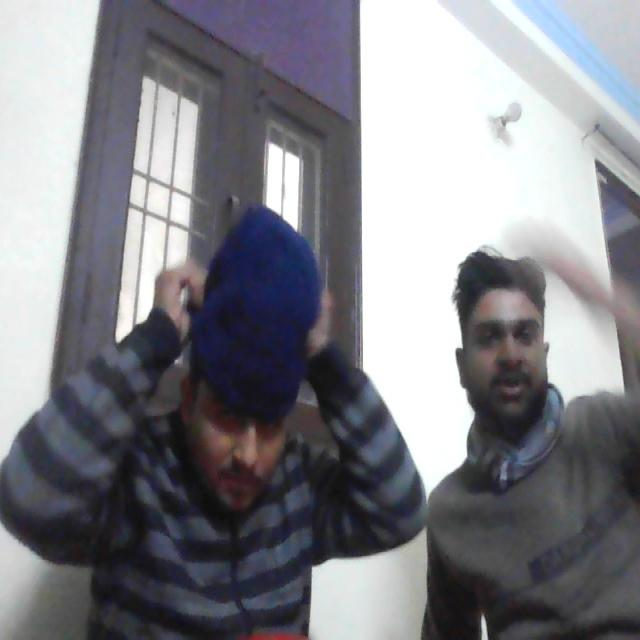real: (175, 260, 321, 536)
